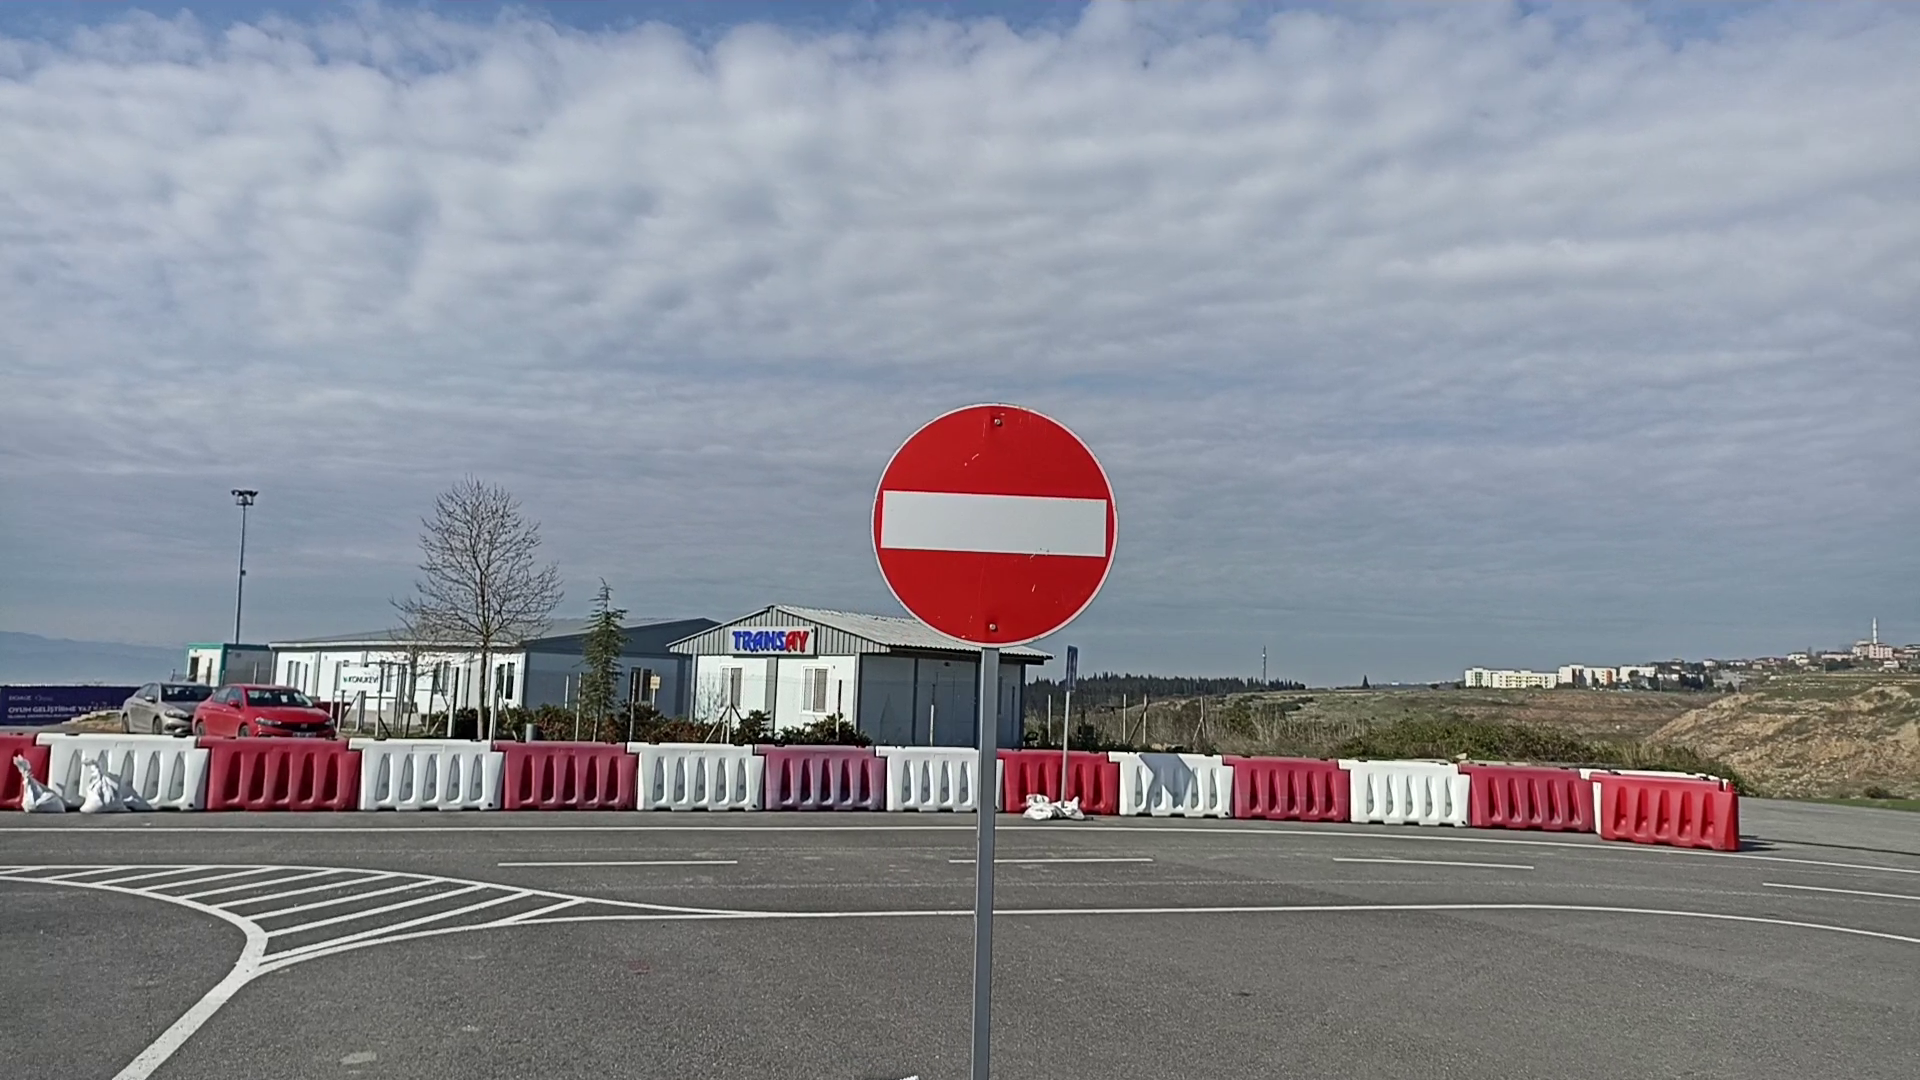noentryway: (866, 392, 1121, 650)
